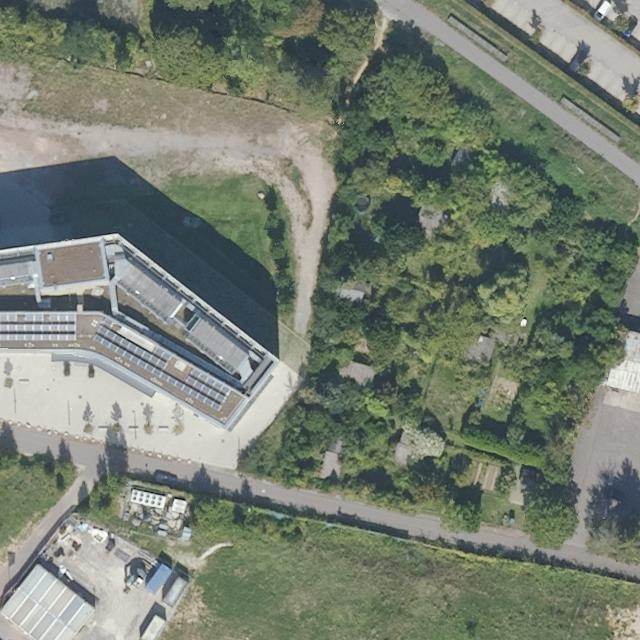PV: (90, 332, 226, 414), (94, 323, 171, 372), (188, 365, 235, 400), (182, 372, 229, 406), (0, 322, 80, 333), (1, 332, 79, 343), (152, 344, 176, 363), (46, 311, 78, 324), (23, 312, 47, 324), (1, 313, 21, 323)
